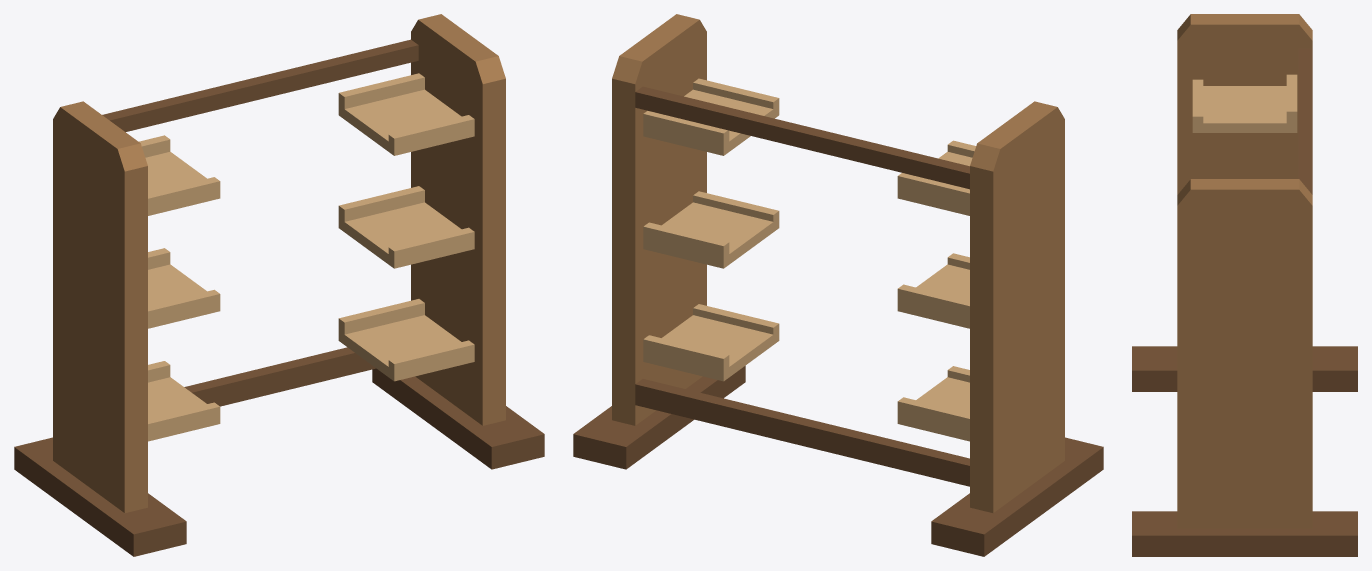
3 renders of one model, left to right at view 1: azimuth 30°, elevation 25°; view 2: azimuth 150°, elevation 25°; view 3: azimuth 270°, elevation 25°, orthographic. The views are drawn at different scales.
Visible parts, largest first — view 1: LeftSideUpright, RightSideUpright, UpperRearTie, LeftFlatFoot, Tier01RightContinuousUCradle, Tier02RightContinuousUCradle, Tier03RightContinuousUCradle, RightFlatFoot, LowerRearTie, Tier03LeftContinuousUCradle, Tier01LeftContinuousUCradle, Tier02LeftContinuousUCradle; view 2: LeftSideUpright, RightSideUpright, LowerRearTie, UpperRearTie, LeftFlatFoot, Tier02RightContinuousUCradle, Tier01RightContinuousUCradle, RightFlatFoot, Tier03RightContinuousUCradle, Tier02LeftContinuousUCradle, Tier01LeftContinuousUCradle, Tier03LeftContinuousUCradle; view 3: RightSideUpright, LeftSideUpright, RightFlatFoot, Tier03LeftContinuousUCradle, LeftFlatFoot, UpperRearTie.
Boxes of the visible parts, <box> form: LeftSideUpright: <box>53,101,147,512</box>; RightSideUpright: <box>411,14,505,425</box>; UpperRearTie: <box>102,39,418,131</box>; LeftFlatFoot: <box>14,437,186,556</box>; Tier01RightContinuousUCradle: <box>338,299,474,381</box>; Tier02RightContinuousUCradle: <box>338,186,474,268</box>; Tier03RightContinuousUCradle: <box>338,73,474,155</box>; RightFlatFoot: <box>372,368,544,469</box>; LowerRearTie: <box>184,347,375,406</box>; Tier03LeftContinuousUCradle: <box>139,135,220,215</box>; Tier01LeftContinuousUCradle: <box>148,361,220,441</box>; Tier02LeftContinuousUCradle: <box>148,248,220,328</box>; LeftSideUpright: <box>970,101,1064,512</box>; RightSideUpright: <box>612,14,706,425</box>; LowerRearTie: <box>635,379,969,486</box>; UpperRearTie: <box>635,86,969,189</box>; LeftFlatFoot: <box>931,437,1103,556</box>; Tier02RightContinuousUCradle: <box>643,191,779,268</box>; Tier01RightContinuousUCradle: <box>643,304,779,381</box>; RightFlatFoot: <box>573,365,745,469</box>; Tier03RightContinuousUCradle: <box>643,78,779,155</box>; Tier02LeftContinuousUCradle: <box>897,253,969,328</box>; Tier01LeftContinuousUCradle: <box>897,366,969,441</box>; Tier03LeftContinuousUCradle: <box>897,140,976,215</box>; RightSideUpright: <box>1177,179,1312,528</box>; LeftSideUpright: <box>1177,14,1312,194</box>; RightFlatFoot: <box>1132,511,1357,556</box>; Tier03LeftContinuousUCradle: <box>1192,74,1297,132</box>; LeftFlatFoot: <box>1132,346,1357,391</box>; UpperRearTie: <box>1298,48,1312,194</box>.
Size of the model in its own units: 0.496 by 0.44 by 0.25.
